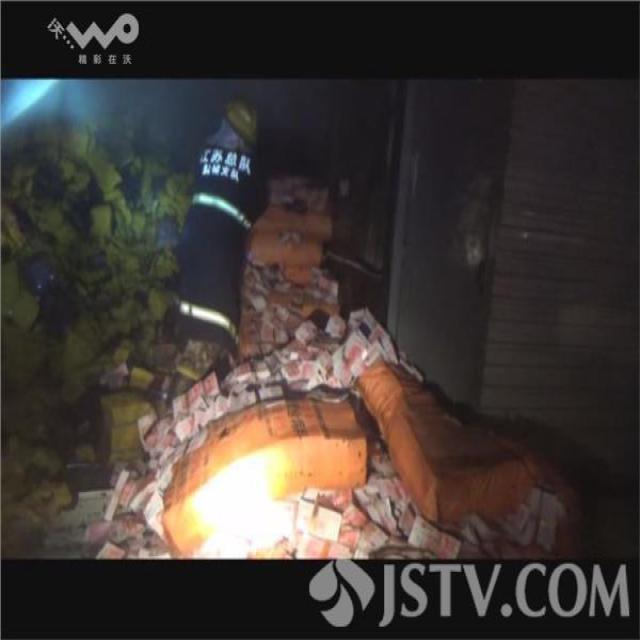fire: (182, 450, 290, 552)
other: (312, 430, 516, 549), (242, 222, 358, 348), (221, 357, 360, 438), (188, 130, 256, 228), (141, 379, 230, 427), (167, 292, 234, 331), (216, 99, 273, 139)
